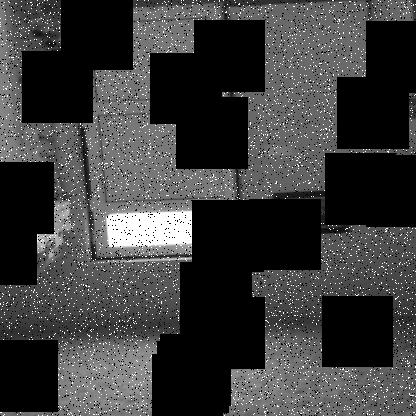Porte: (74, 1, 246, 261)
